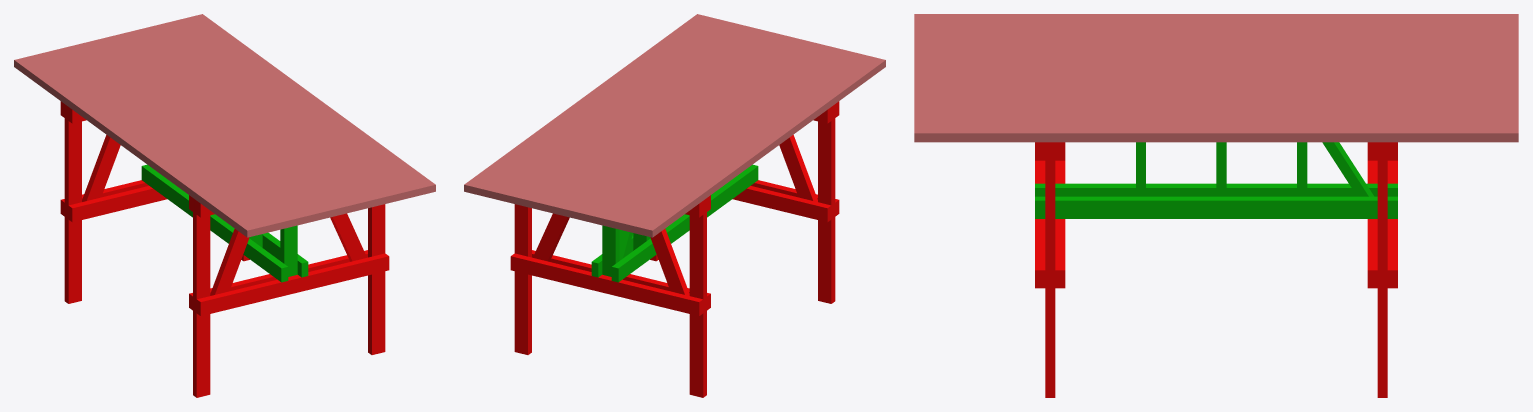
File: result.glb
The picture shows the model from 3 angles, left to right: view 1: azimuth 30°, elevation 25°; view 2: azimuth 150°, elevation 25°; view 3: azimuth 270°, elevation 25°; orthographic projection. The views are drawn at different scales.
Parts seen in each view (by area): view 1: 34c51d79-9bff-42d7-8b56-03500d6b18a6__Box, 648c033e-8f3d-4a02-8e6d-f6b17b6b0a5c__sideH, 63fbfbb8-b88d-4197-ab49-a22ccf08837e__undefined, a2072929-296d-4936-9613-c00b5a40c38e__undefined, 82ac9c21-1f47-4924-bac2-f068183dd17a__undefined, 4a21f486-1532-4ca9-b3e1-5e2b37bb0a94__undefined, a831a520-5fdc-4652-9b96-a9ba30217d3b__undefined, 52077c7f-ca50-4990-b1bd-7360e9e96178__undefined, d180a171-9723-446e-9912-cf7fdf49add8__undefined, a2ddf5bf-12f1-4069-bb22-2c9597e0201e__undefined, 2d4d04ad-24c9-45ce-859b-053da06f605b__undefined, f096e574-3b44-4e51-8ee3-a5c7c8cf5441__undefined (+15 smaller); view 2: 34c51d79-9bff-42d7-8b56-03500d6b18a6__Box, 8687a3a3-0fa2-4538-b36a-f80d5a2acec6__undefined, 63fbfbb8-b88d-4197-ab49-a22ccf08837e__undefined, a2072929-296d-4936-9613-c00b5a40c38e__undefined, 82ac9c21-1f47-4924-bac2-f068183dd17a__undefined, 4a21f486-1532-4ca9-b3e1-5e2b37bb0a94__undefined, a831a520-5fdc-4652-9b96-a9ba30217d3b__undefined, 52077c7f-ca50-4990-b1bd-7360e9e96178__undefined, d180a171-9723-446e-9912-cf7fdf49add8__undefined, a2ddf5bf-12f1-4069-bb22-2c9597e0201e__undefined, 2d4d04ad-24c9-45ce-859b-053da06f605b__undefined, f096e574-3b44-4e51-8ee3-a5c7c8cf5441__undefined (+14 smaller); view 3: a831a520-5fdc-4652-9b96-a9ba30217d3b__undefined, 3b0bc1d5-e8ef-41b9-af80-edc3b04e6f85__strutH, ece5b562-2ee2-4288-8069-09760bf5872e__undefined, 34c51d79-9bff-42d7-8b56-03500d6b18a6__Box, 63fbfbb8-b88d-4197-ab49-a22ccf08837e__undefined, 5ce1c12b-e055-4d9c-8d12-e3f819ed2082__undefined, a2072929-296d-4936-9613-c00b5a40c38e__undefined, 82ac9c21-1f47-4924-bac2-f068183dd17a__undefined, 41571103-b562-4de5-b672-b0ff5b120fdb__undefined, a2ddf5bf-12f1-4069-bb22-2c9597e0201e__undefined, 52077c7f-ca50-4990-b1bd-7360e9e96178__undefined, 2d4d04ad-24c9-45ce-859b-053da06f605b__undefined (+14 smaller).
Boxes of the visible parts, x1,y1,x2,y2 form: 34c51d79-9bff-42d7-8b56-03500d6b18a6__Box: (14, 56, 260, 237); 648c033e-8f3d-4a02-8e6d-f6b17b6b0a5c__sideH: (196, 253, 389, 315); 63fbfbb8-b88d-4197-ab49-a22ccf08837e__undefined: (28, 53, 274, 234); a2072929-296d-4936-9613-c00b5a40c38e__undefined: (55, 47, 301, 227); 82ac9c21-1f47-4924-bac2-f068183dd17a__undefined: (68, 43, 314, 224); 4a21f486-1532-4ca9-b3e1-5e2b37bb0a94__undefined: (135, 27, 381, 207); a831a520-5fdc-4652-9b96-a9ba30217d3b__undefined: (189, 14, 435, 194); 52077c7f-ca50-4990-b1bd-7360e9e96178__undefined: (109, 33, 354, 214); d180a171-9723-446e-9912-cf7fdf49add8__undefined: (149, 24, 395, 204); a2ddf5bf-12f1-4069-bb22-2c9597e0201e__undefined: (95, 37, 341, 217); 2d4d04ad-24c9-45ce-859b-053da06f605b__undefined: (122, 30, 368, 211); f096e574-3b44-4e51-8ee3-a5c7c8cf5441__undefined: (176, 17, 422, 197); 34c51d79-9bff-42d7-8b56-03500d6b18a6__Box: (639, 56, 885, 237); 8687a3a3-0fa2-4538-b36a-f80d5a2acec6__undefined: (510, 253, 703, 315); 63fbfbb8-b88d-4197-ab49-a22ccf08837e__undefined: (625, 53, 871, 234); a2072929-296d-4936-9613-c00b5a40c38e__undefined: (598, 47, 844, 227); 82ac9c21-1f47-4924-bac2-f068183dd17a__undefined: (585, 43, 831, 224); 4a21f486-1532-4ca9-b3e1-5e2b37bb0a94__undefined: (518, 27, 764, 207); a831a520-5fdc-4652-9b96-a9ba30217d3b__undefined: (464, 14, 710, 194); 52077c7f-ca50-4990-b1bd-7360e9e96178__undefined: (545, 33, 790, 214); d180a171-9723-446e-9912-cf7fdf49add8__undefined: (504, 24, 750, 204); a2ddf5bf-12f1-4069-bb22-2c9597e0201e__undefined: (558, 37, 804, 217); 2d4d04ad-24c9-45ce-859b-053da06f605b__undefined: (531, 30, 777, 211); f096e574-3b44-4e51-8ee3-a5c7c8cf5441__undefined: (477, 17, 723, 197); a831a520-5fdc-4652-9b96-a9ba30217d3b__undefined: (914, 124, 1518, 142); 3b0bc1d5-e8ef-41b9-af80-edc3b04e6f85__strutH: (1035, 196, 1397, 218); ece5b562-2ee2-4288-8069-09760bf5872e__undefined: (914, 107, 1518, 116); 34c51d79-9bff-42d7-8b56-03500d6b18a6__Box: (914, 14, 1518, 22); 63fbfbb8-b88d-4197-ab49-a22ccf08837e__undefined: (914, 22, 1518, 30); 5ce1c12b-e055-4d9c-8d12-e3f819ed2082__undefined: (914, 31, 1518, 39); a2072929-296d-4936-9613-c00b5a40c38e__undefined: (914, 39, 1518, 47); 82ac9c21-1f47-4924-bac2-f068183dd17a__undefined: (914, 48, 1518, 56); 41571103-b562-4de5-b672-b0ff5b120fdb__undefined: (914, 56, 1518, 64); a2ddf5bf-12f1-4069-bb22-2c9597e0201e__undefined: (914, 65, 1518, 73); 52077c7f-ca50-4990-b1bd-7360e9e96178__undefined: (914, 73, 1518, 81); 2d4d04ad-24c9-45ce-859b-053da06f605b__undefined: (914, 82, 1518, 90).
Size of the model in its own units: 700 by 725 by 1500.
